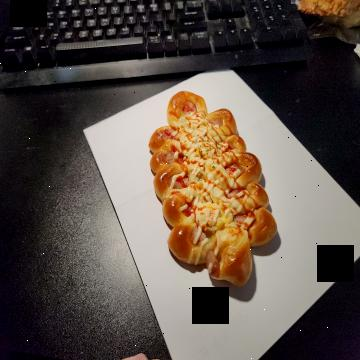pizza_bread: (149, 89, 277, 285)
